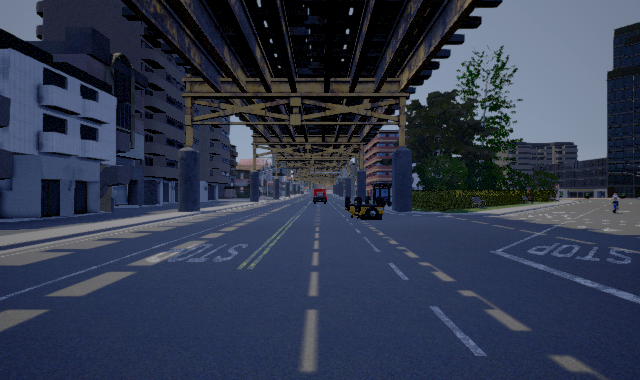bike: (609, 192, 622, 213)
vehicle: (345, 196, 385, 220), (312, 186, 328, 203)
